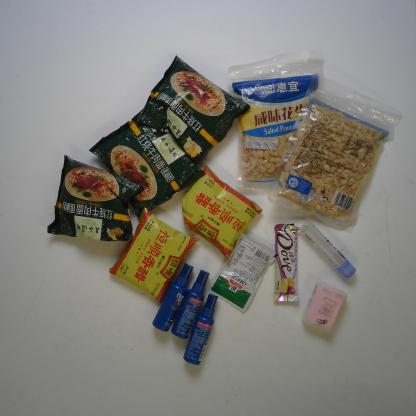Chocolate: (269, 221, 302, 306)
Dried Fruit: (263, 67, 407, 236), (223, 48, 330, 197)
Instant Noodles: (133, 51, 252, 169), (87, 105, 207, 220), (44, 151, 148, 245)
Personal Hygiene: (151, 262, 195, 333), (170, 268, 212, 340), (181, 292, 220, 367)
Seasoner: (106, 204, 203, 306), (179, 162, 264, 262), (206, 230, 281, 315)
Stationery: (296, 218, 358, 281)
Tissue: (300, 278, 350, 336)
